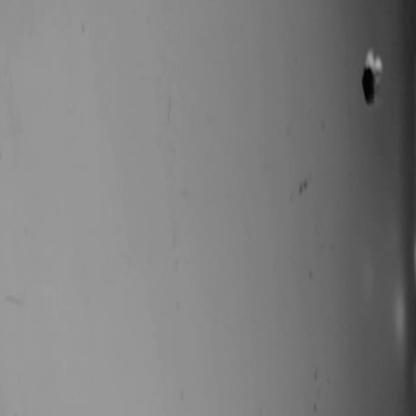kongdong: (353, 47, 388, 111)
